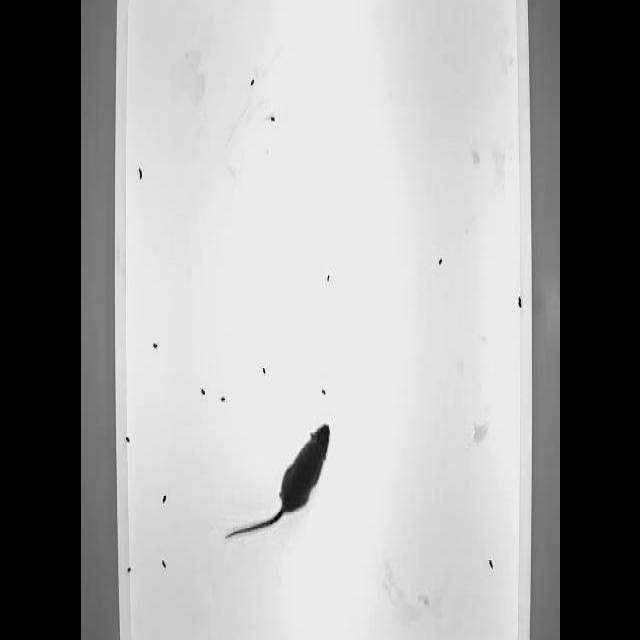rat: (223, 419, 333, 542)
